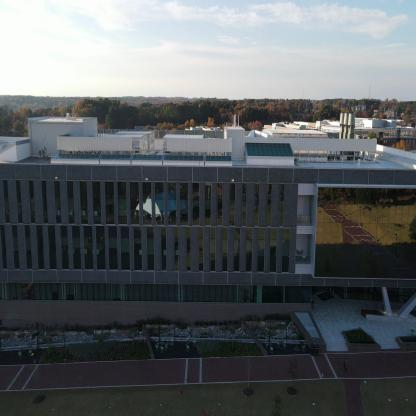Fitts- Woolard: (3, 100, 414, 372)
